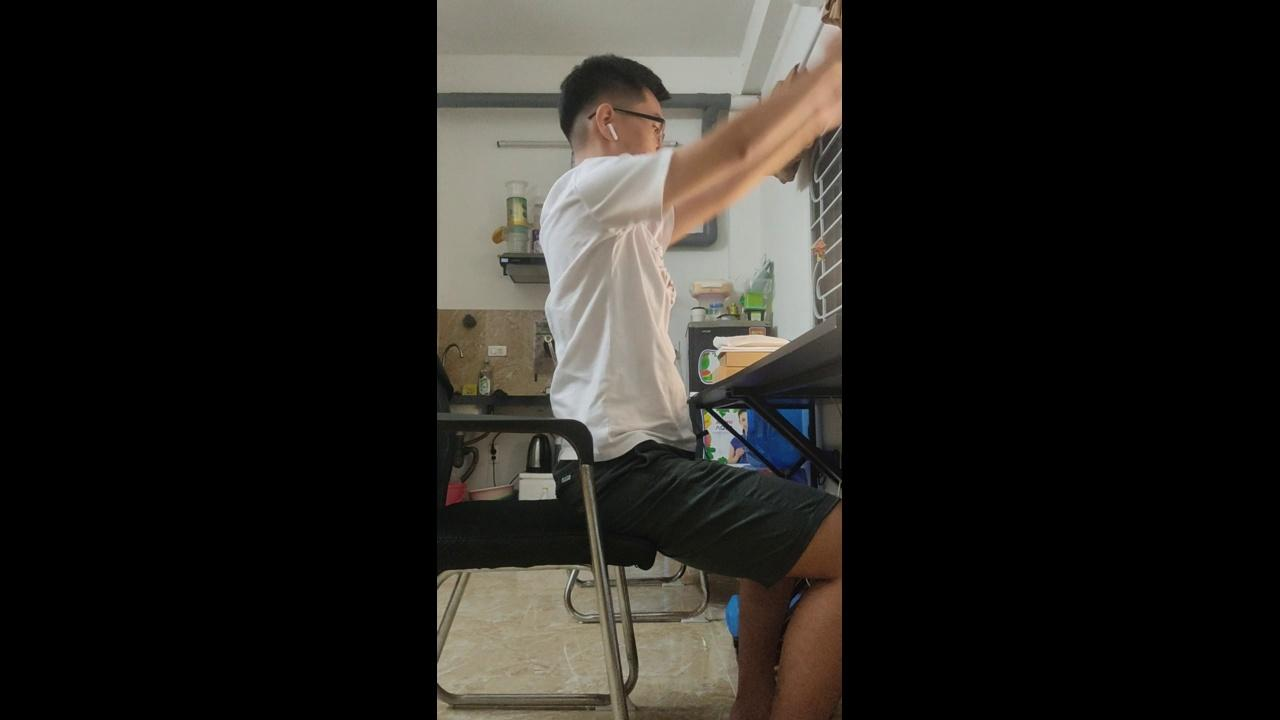GoodPosture: (542, 37, 841, 719)
